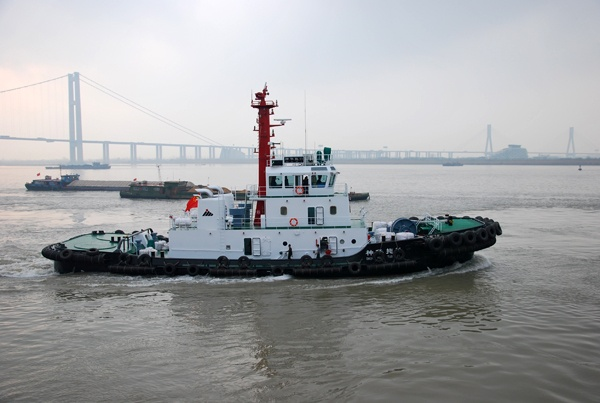otherboat: (39, 87, 519, 281), (117, 171, 221, 206)
